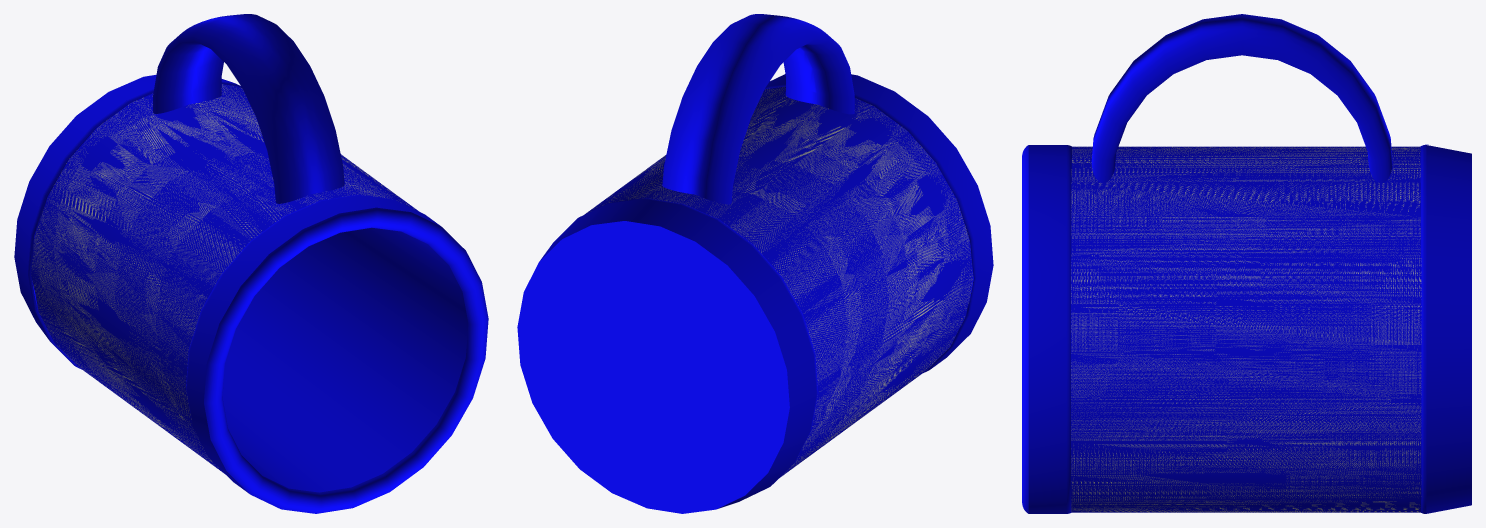
File: model_align.obj
3 views of the same model, side by side, from view 1: azimuth 30°, elevation 25°; view 2: azimuth 150°, elevation 25°; view 3: azimuth 270°, elevation 25° (orthographic). The views are drawn at different scales.
Visible parts, largest first — view 1: mesh2_mesh2-geometry, mesh1_mesh1-geometry; view 2: mesh2_mesh2-geometry, mesh1_mesh1-geometry; view 3: mesh2_mesh2-geometry, mesh1_mesh1-geometry.
Boxes of the visible parts, x1,y1,x2,y2 form: mesh2_mesh2-geometry: (14,74,488,513); mesh1_mesh1-geometry: (153,14,344,203); mesh2_mesh2-geometry: (517,74,993,513); mesh1_mesh1-geometry: (662,14,854,204); mesh2_mesh2-geometry: (1022,144,1471,513); mesh1_mesh1-geometry: (1091,14,1392,183).
Bounding box in the file's own units: 0.0749 × 0.1047 × 0.0906.
